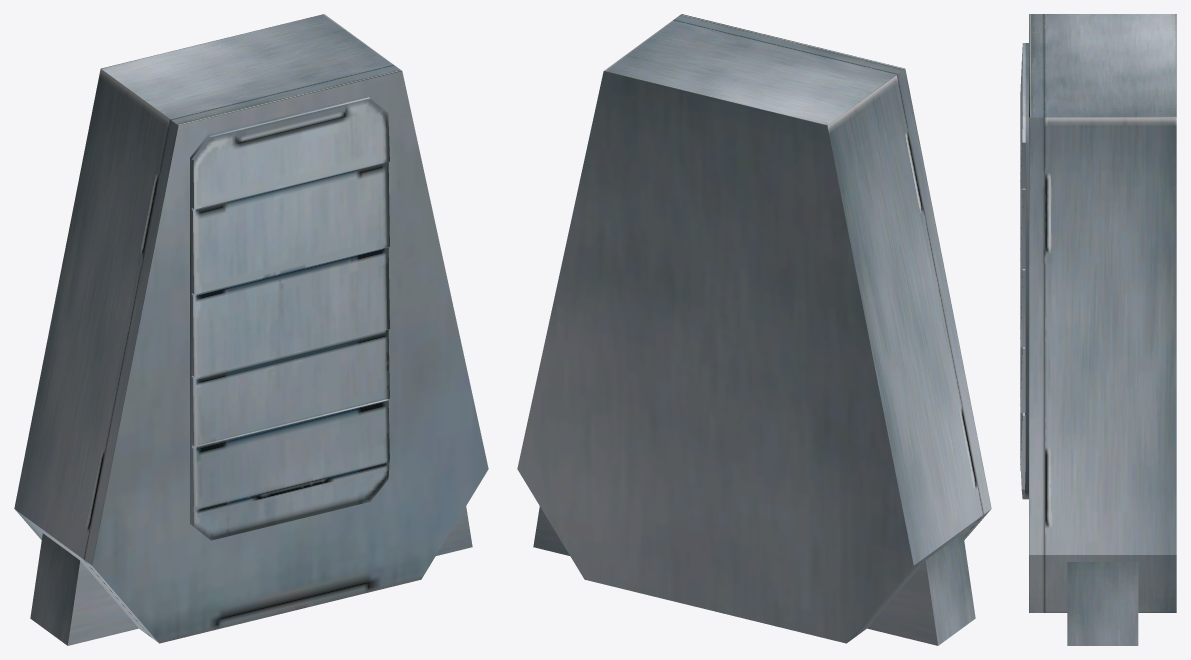
File: frn_all_tech_armoire_s01_l0.fbx
3 renders of one model, left to right at view 1: azimuth 30°, elevation 25°; view 2: azimuth 150°, elevation 25°; view 3: azimuth 270°, elevation 25°, orthographic. The views are drawn at different scales.
Visible parts, largest first — view 1: mesh_node; view 2: mesh_node; view 3: mesh_node.
Boxes of the visible parts, x1=… form: mesh_node: x1=14, y1=14, x2=488, y2=645; mesh_node: x1=517, y1=14, x2=991, y2=645; mesh_node: x1=1020, y1=14, x2=1176, y2=645.
Size of the model in its own units: 1.49 by 1.81 by 0.5269.
